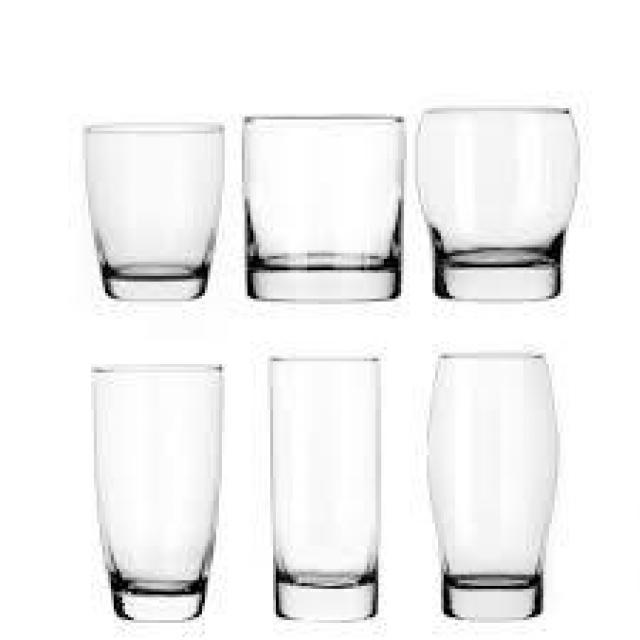glass: (424, 353, 560, 623), (92, 363, 226, 624), (414, 103, 582, 304), (266, 352, 386, 620), (241, 110, 408, 302), (81, 121, 226, 303)
